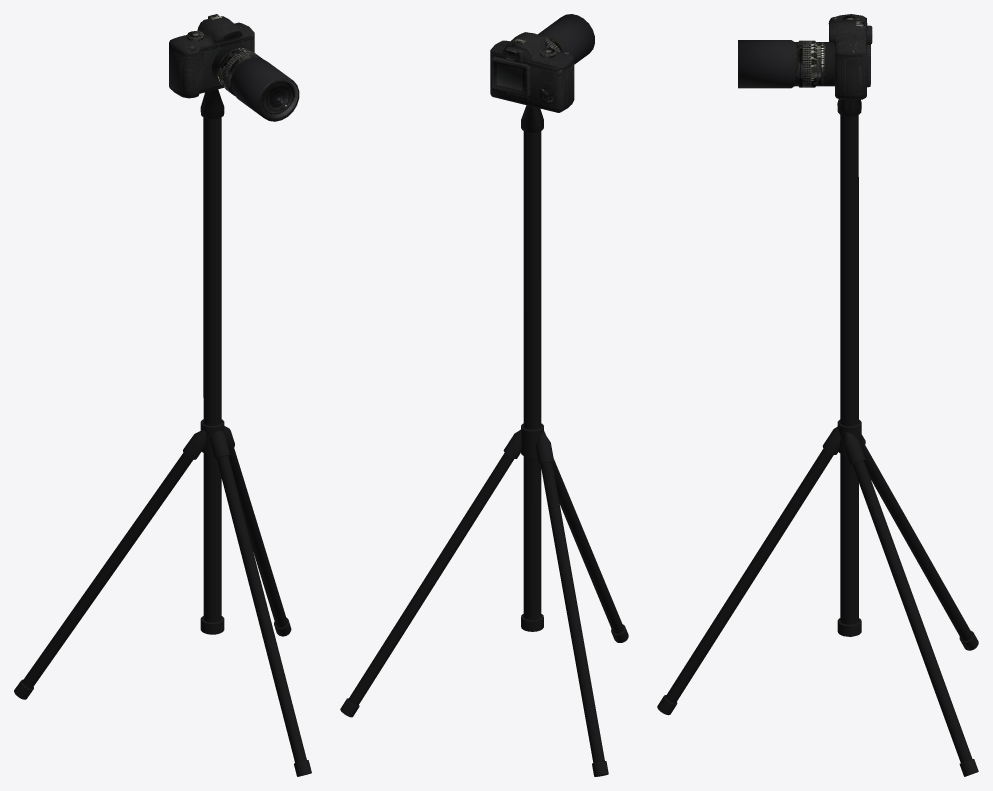
Rendered from BR_Camera.glb.
3 renders of one model, left to right at view 1: azimuth 30°, elevation 25°; view 2: azimuth 150°, elevation 25°; view 3: azimuth 270°, elevation 25°, orthographic. The views are drawn at different scales.
Visible parts, largest first — view 1: metal studio lamp, camera, black plastic; view 2: metal studio lamp, camera, black plastic; view 3: metal studio lamp, camera, black plastic.
Boxes of the visible parts, x1,y1,x2,y2 form: metal studio lamp: [22, 117, 306, 762]; camera: [169, 14, 299, 121]; black plastic: [14, 89, 311, 776]; metal studio lamp: [348, 131, 623, 762]; camera: [490, 14, 594, 112]; black plastic: [340, 105, 628, 776]; metal studio lamp: [665, 114, 972, 763]; camera: [738, 14, 872, 99]; black plastic: [657, 99, 978, 776].
Size of the model in its own units: 0.616 by 1.47 by 0.6172.
Materials: 3 (2 with a texture image).
